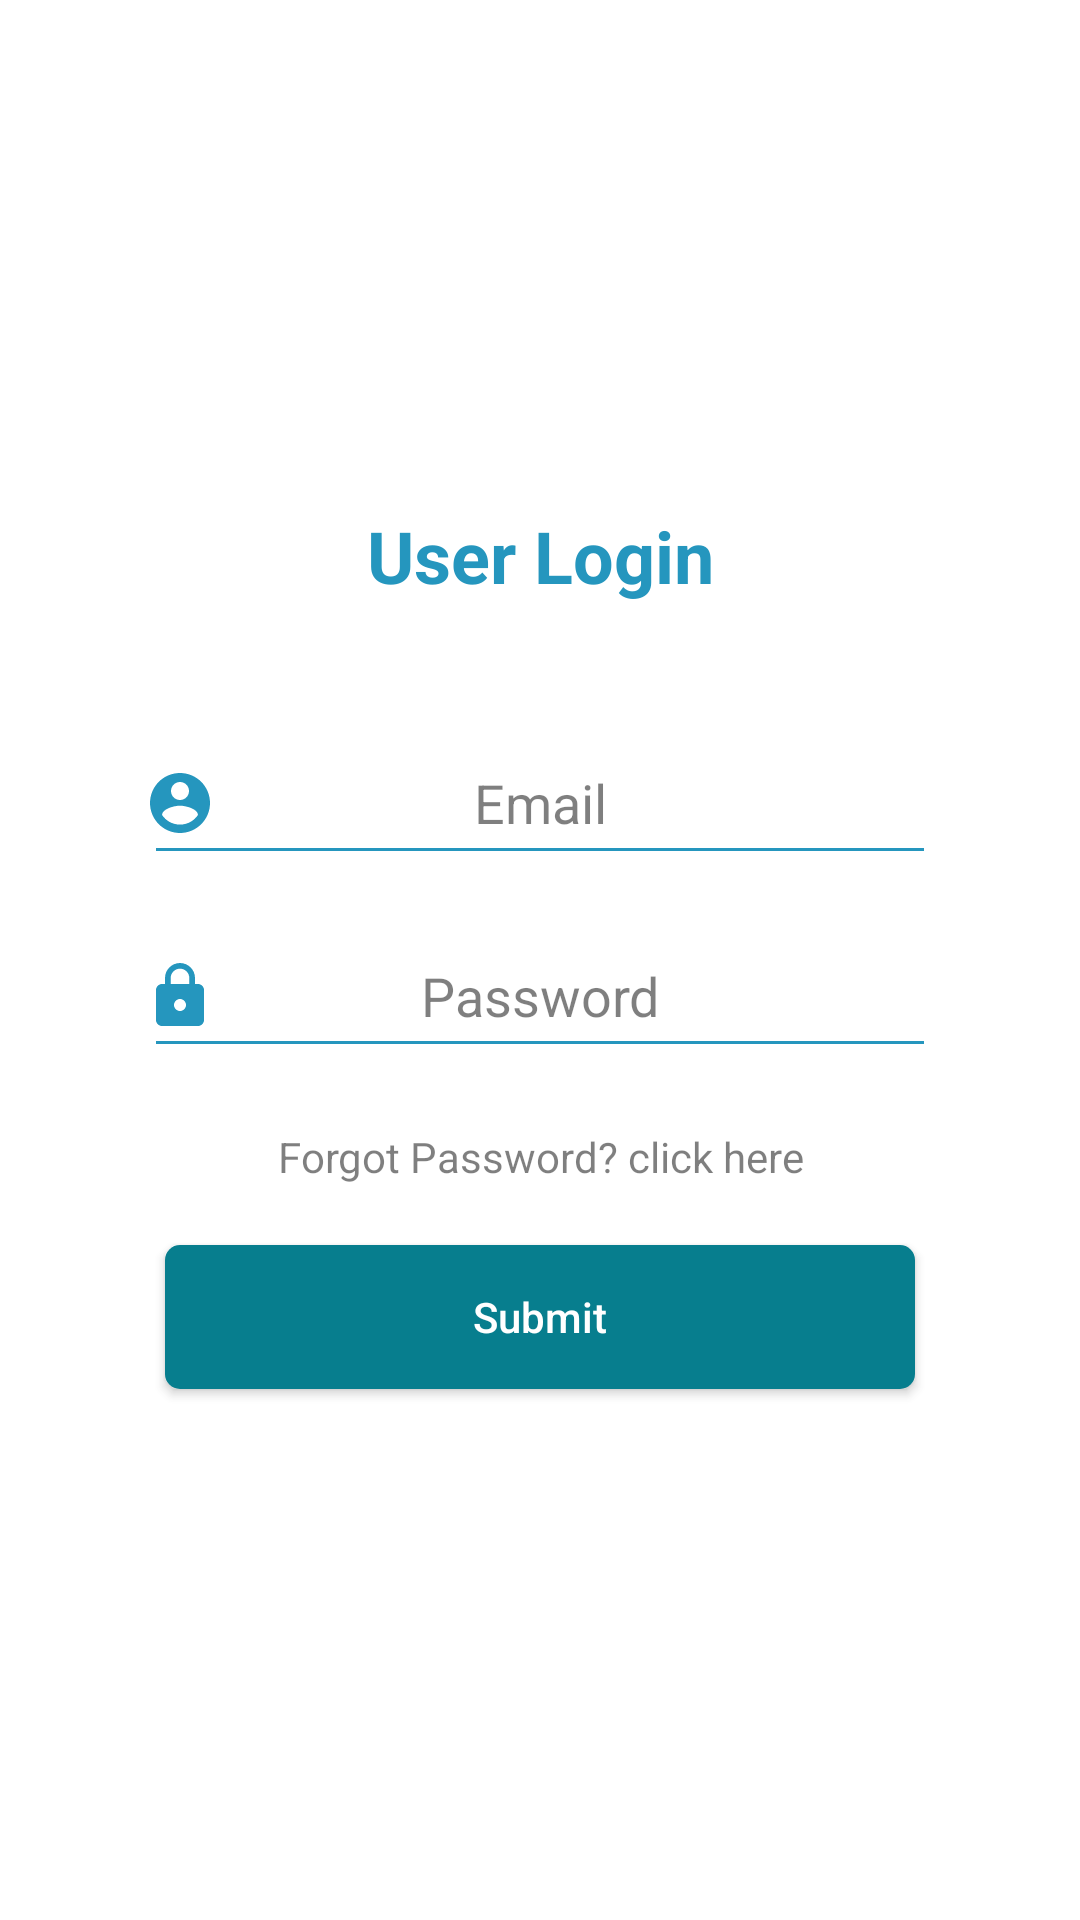

Icons on this 1080px×1920px Android screen, each with its box as (x1, y1, x2, y2):
account circle: (150, 773, 210, 833)
